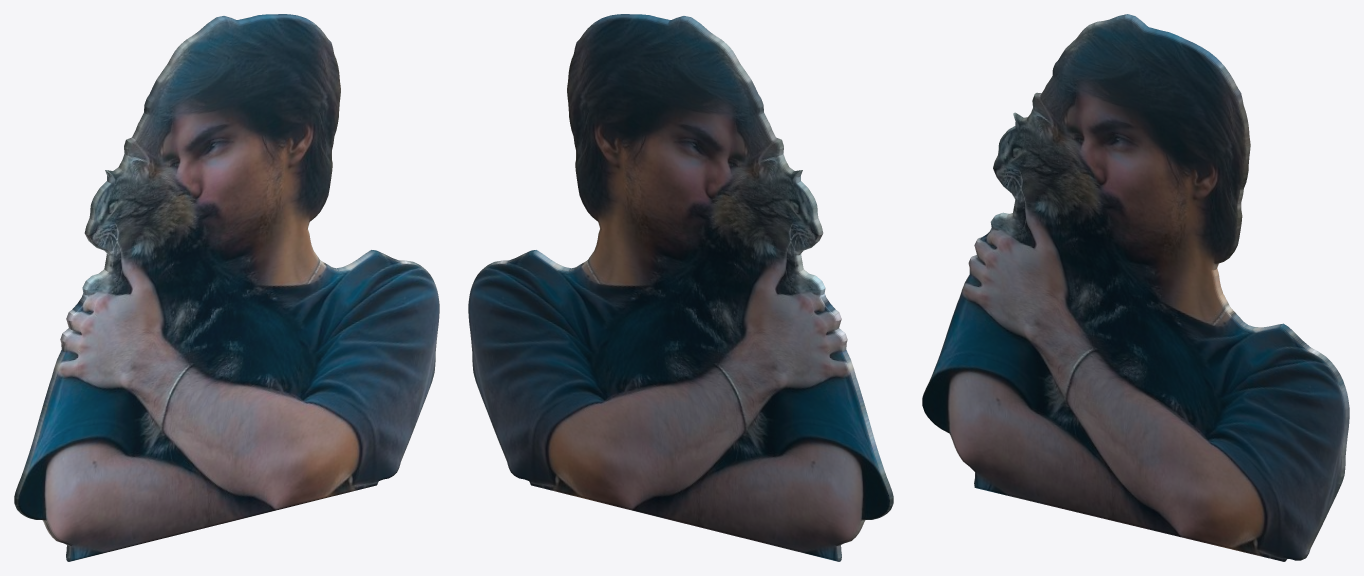
File: ariandsiri.glb
The picture shows the model from 3 angles, left to right: view 1: azimuth 30°, elevation 25°; view 2: azimuth 150°, elevation 25°; view 3: azimuth 330°, elevation 25°; orthographic projection.
Parts seen in each view (by area): view 1: BézierCurve; view 2: BézierCurve; view 3: BézierCurve.
Boxes of the visible parts, x1,y1,x2,y2 form: BézierCurve: (14,14,439,561); BézierCurve: (468,14,893,561); BézierCurve: (922,14,1349,561).
Bounding box in the file's own units: 0.7841 × 0.8967 × 0.015.
1 material, 1 textured.
